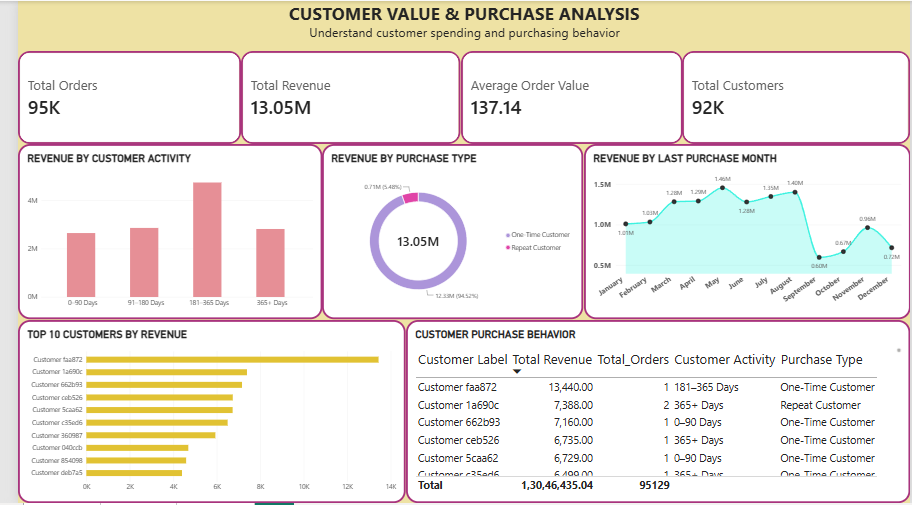

The page's visual inventory and layout, read from the dashboard file:
{"tool":"powerbi","page":{"name":"Page 3","canvas":[1920,1080],"ordinal":2},"visuals":[{"type":"textbox","box":[0,0,1921.1,107.5],"z":0},{"type":"cardVisual","fields":{"Data":["Sum(customer_analysis.total_orders)"]},"box":[0,108.1,480,200.4],"z":1000},{"type":"cardVisual","fields":{"Data":["customer_analysis.Average Order Value"]},"box":[952.1,108.1,477.4,200.4],"z":2000},{"type":"cardVisual","fields":{"Data":["customer_analysis.Total Customers"]},"box":[1429.5,108.1,490.5,200.4],"z":3000},{"type":"cardVisual","fields":{"Data":["customer_analysis.Total Revenue"]},"box":[480,108.1,472.1,200.4],"z":4000},{"type":"clusteredColumnChart","title":"REVENUE BY CUSTOMER ACTIVITY","fields":{"Category":["customer_analysis.Customer Activity"],"Y":["customer_analysis.Total Revenue"]},"box":[0,308.6,654.9,377.1],"z":5000},{"type":"donutChart","title":"REVENUE BY PURCHASE TYPE","fields":{"Category":["customer_analysis.Purchase Type"],"Y":["customer_analysis.Total Revenue"]},"box":[654.9,308.6,562.3,377.1],"z":6000},{"type":"lineChart","title":"REVENUE BY LAST PURCHASE MONTH","fields":{"Category":["customer_analysis.last_purchase_date.Variation.Date Hierarchy.Month","customer_analysis.last_purchase_date.Variation.Date Hierarchy.Day"],"Y":["customer_analysis.Total Revenue"]},"box":[1217.1,308.6,702.9,377.1],"z":7000},{"type":"clusteredBarChart","title":"TOP 10 CUSTOMERS BY REVENUE","fields":{"Category":["customer_analysis.Customer Label"],"Y":["customer_analysis.Total Revenue"]},"box":[0,685.8,833.9,394.2],"z":8000},{"type":"tableEx","title":"CUSTOMER PURCHASE BEHAVIOR","fields":{"Values":["customer_analysis.Customer Label","customer_analysis.Total Revenue","Sum(customer_analysis.total_orders)","customer_analysis.Customer Activity","customer_analysis.Purchase Type"]},"box":[833.9,685.8,1084.8,394.2],"z":9000}]}

Visuals, with their boxes in screenshot pixels (x1, y1, x2, y2), scaled from the page's 1920x1080 canvas onto the 912x505 screenshot:
textbox: <bbox>0, 0, 911, 50</bbox>
cardVisual - Sum(customer_analysis.total_orders): <bbox>0, 51, 228, 144</bbox>
cardVisual - customer_analysis.Average Order Value: <bbox>452, 51, 679, 144</bbox>
cardVisual - customer_analysis.Total Customers: <bbox>679, 51, 911, 144</bbox>
cardVisual - customer_analysis.Total Revenue: <bbox>228, 51, 452, 144</bbox>
"REVENUE BY CUSTOMER ACTIVITY" clusteredColumnChart: <bbox>0, 144, 311, 321</bbox>
"REVENUE BY PURCHASE TYPE" donutChart: <bbox>311, 144, 578, 321</bbox>
"REVENUE BY LAST PURCHASE MONTH" lineChart: <bbox>578, 144, 911, 321</bbox>
"TOP 10 CUSTOMERS BY REVENUE" clusteredBarChart: <bbox>0, 321, 396, 504</bbox>
"CUSTOMER PURCHASE BEHAVIOR" tableEx: <bbox>396, 321, 911, 504</bbox>
